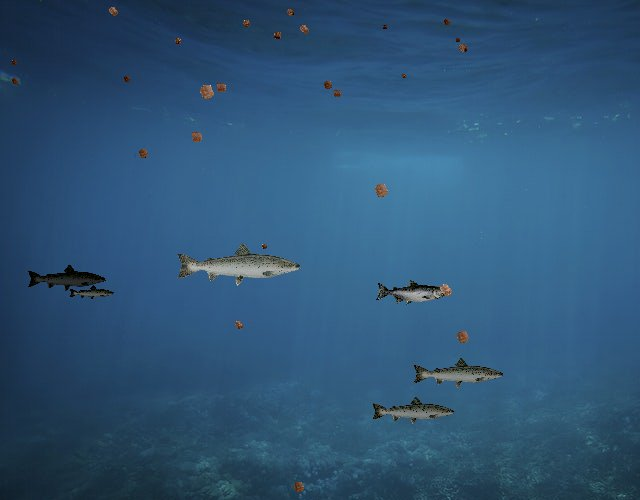Fish: (174, 241, 303, 287), (411, 357, 505, 391), (370, 395, 456, 426), (27, 263, 108, 292), (376, 280, 449, 306), (68, 284, 115, 301)
Pellet: (192, 76, 222, 106), (432, 277, 459, 304), (450, 324, 476, 350), (185, 125, 208, 148), (288, 476, 310, 498), (170, 34, 185, 49), (120, 72, 134, 86)
